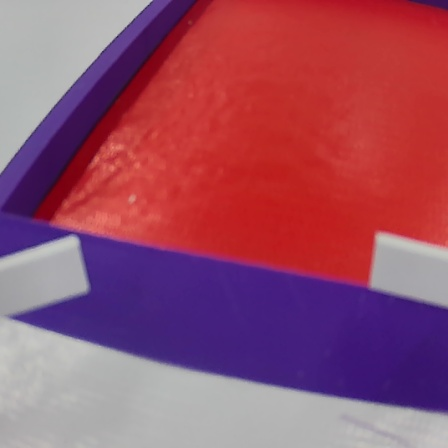red_aim: (2, 4, 448, 417)
